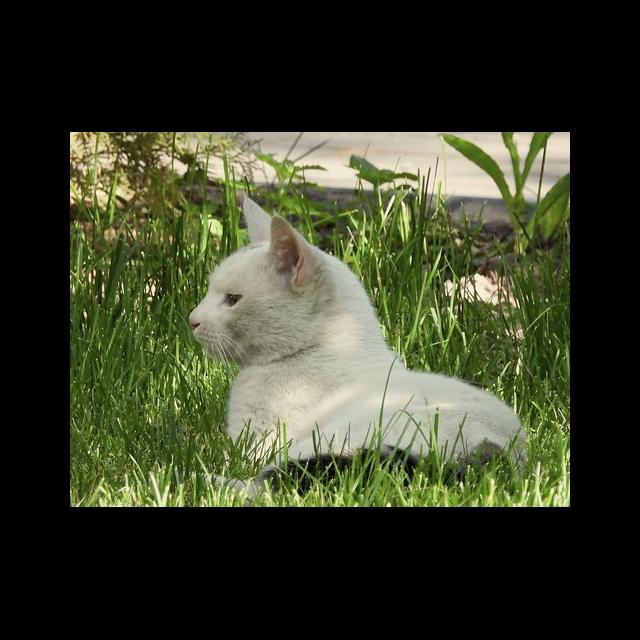animals: (188, 196, 528, 508)
